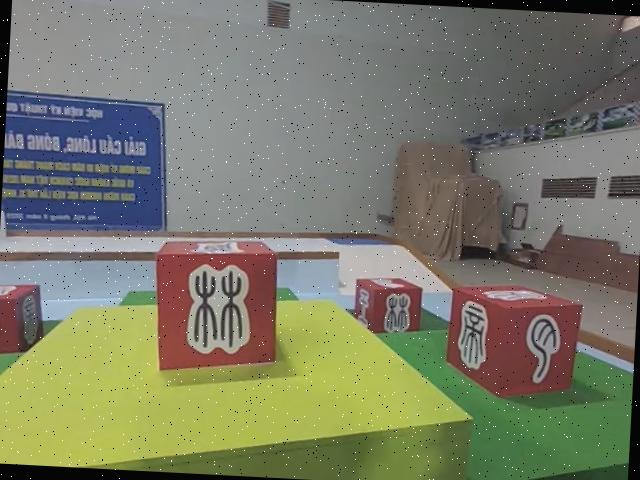R2 Fake: (149, 230, 288, 381), (443, 278, 583, 400), (350, 272, 423, 344), (0, 278, 46, 366)
